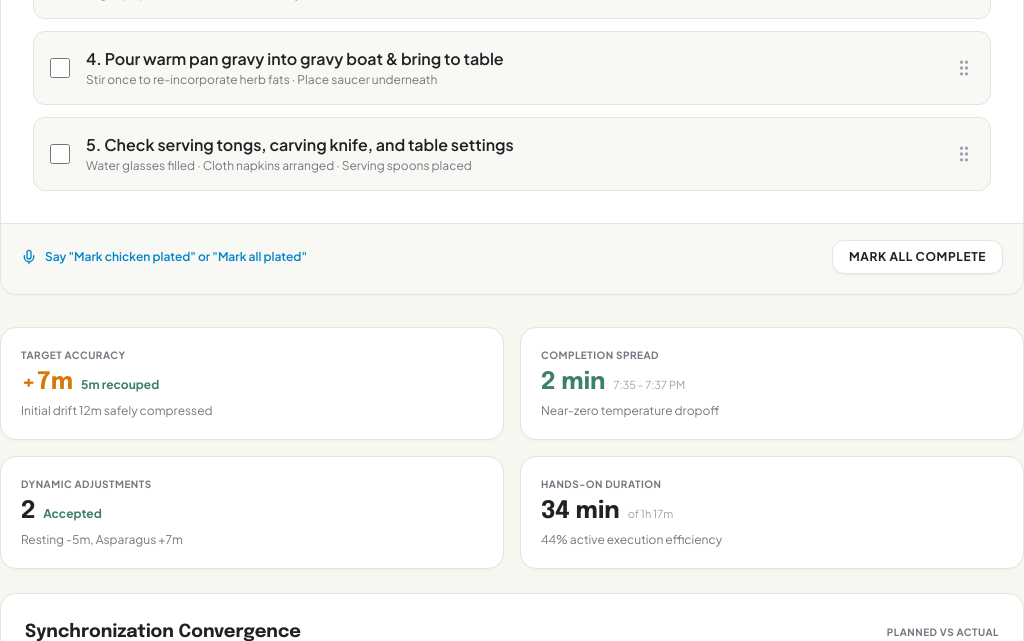
Test: UI: DinnerLandedScreen Component › interacts with the plating checklist and marks all complete
(page scrolled)
// Click "MARK ALL COMPLETE"
Click the button "MARK ALL COMPLETE". click: point(918, 257)
box: left=832, top=240, right=1003, bottom=274
(page scrolled)
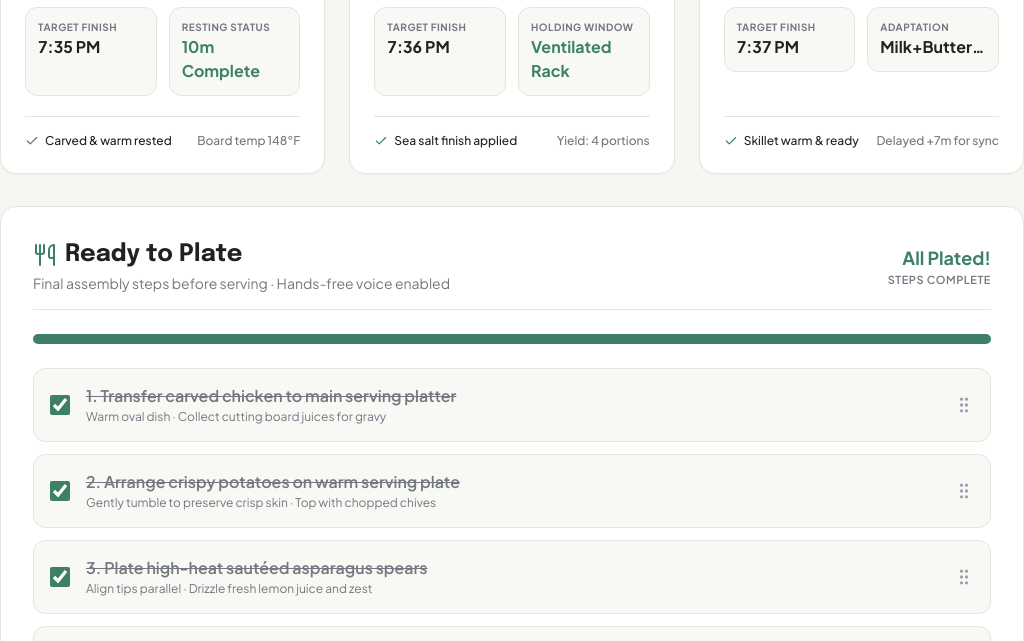
Now the text "All Plated!" is shown, box left=902, top=246, right=991, bottom=269
